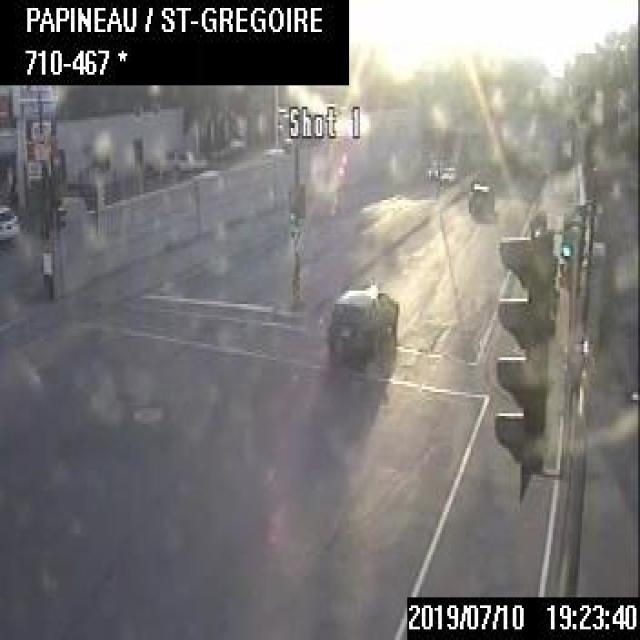vehicle: (327, 285, 398, 368), (464, 171, 496, 216), (424, 160, 460, 187), (0, 197, 20, 240)
